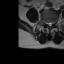CCS_normal: (49, 19, 51, 29)
LFS_normal: (52, 19, 54, 25)
LLS_normal: (51, 19, 52, 27)
RFS_normal: (45, 19, 47, 26)
RLS_normal: (47, 19, 49, 27)
